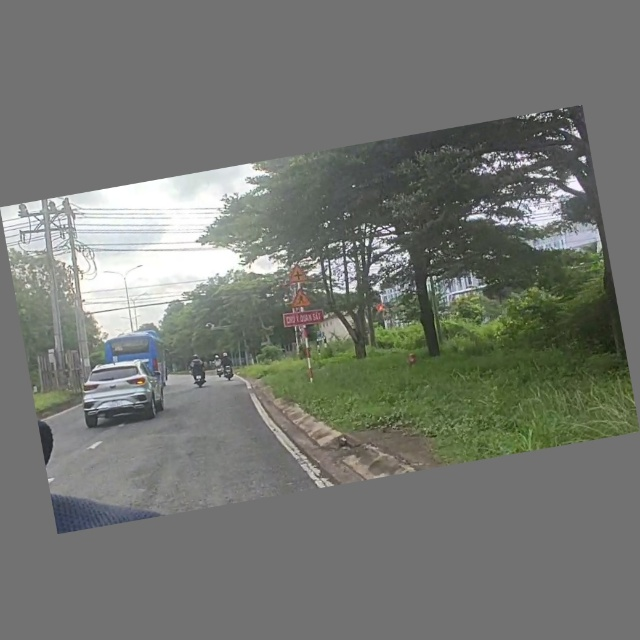W.205a: (285, 263, 310, 286)
W.224: (287, 286, 315, 310)
